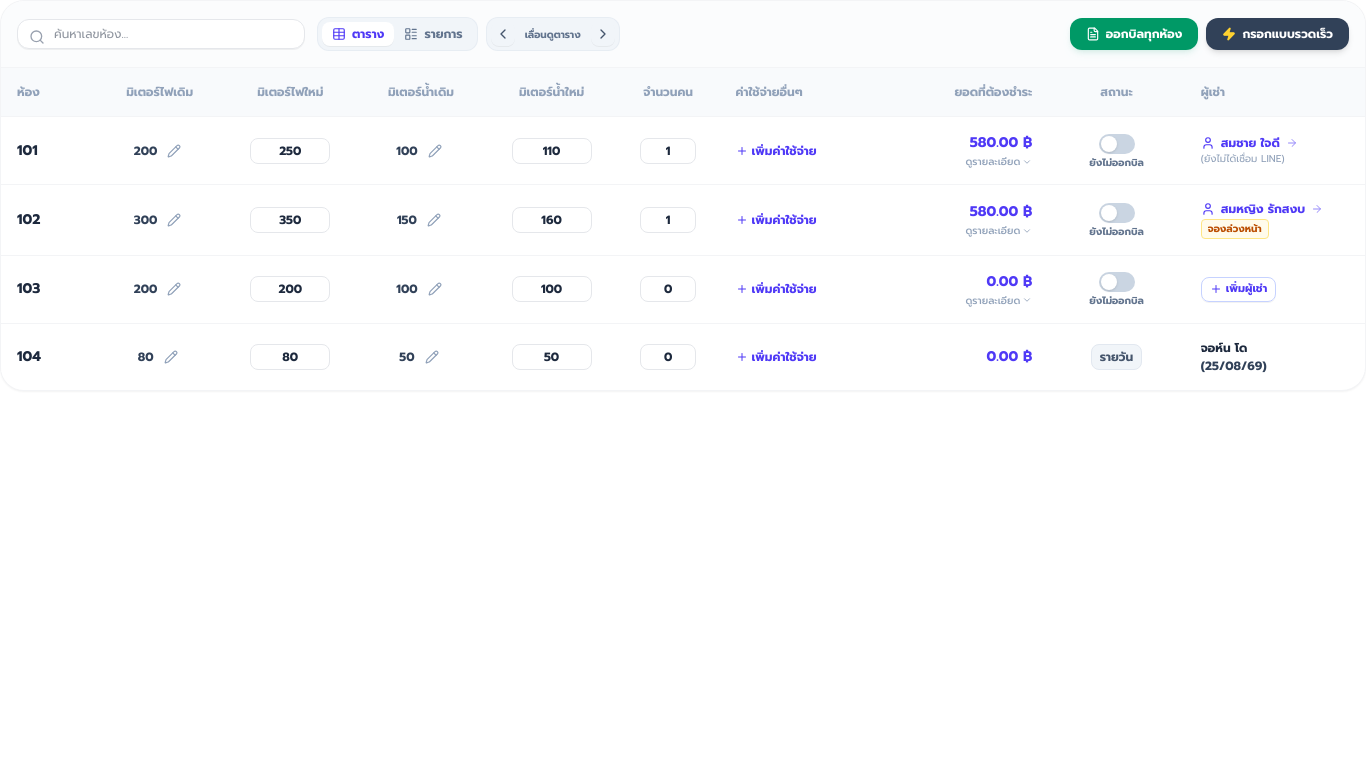
Test: HORPLUS LOCAL-07 — Quick Add Tenant Exact Table/List Popup Parity Suite (Q1 - Q20) › Q1 & Q10, Q11, Q12, Q13. Exact eligibility parity in Table and List modes
This screenshot has width=1366, height=768.
Expected: the row with id "room-row-r3" is shown, [1, 255, 1365, 324]
Expected: the text "สมชาย ใจดี" is shown, [1221, 135, 1280, 151]
# Switch to LIST MODE
Click the button with test id "view-mode-list-button" at (434,34), box [394, 22, 473, 46]
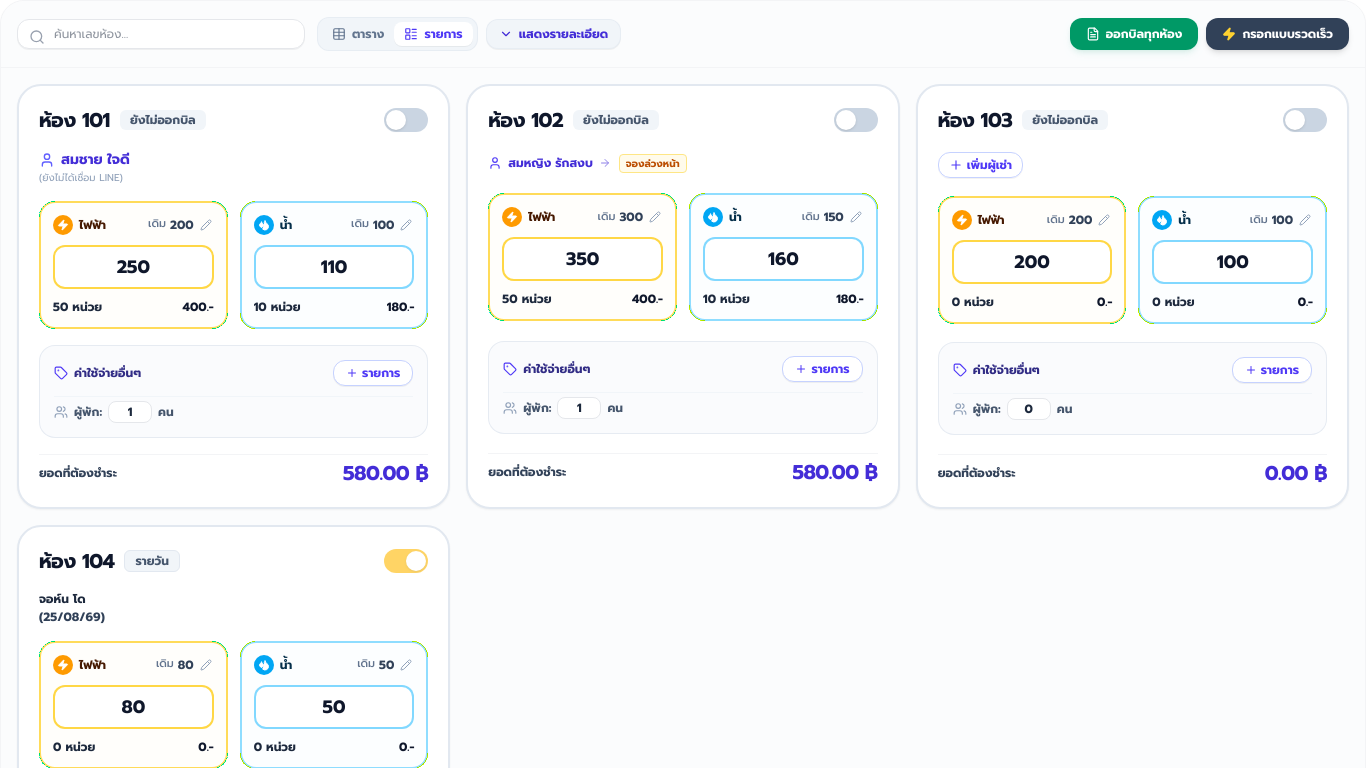
Expected: the text "สมชาย ใจดี" is shown, [61, 150, 130, 170]
Expected: the element with test id "meter-list-card-r3" is shown, [916, 84, 1349, 508]
